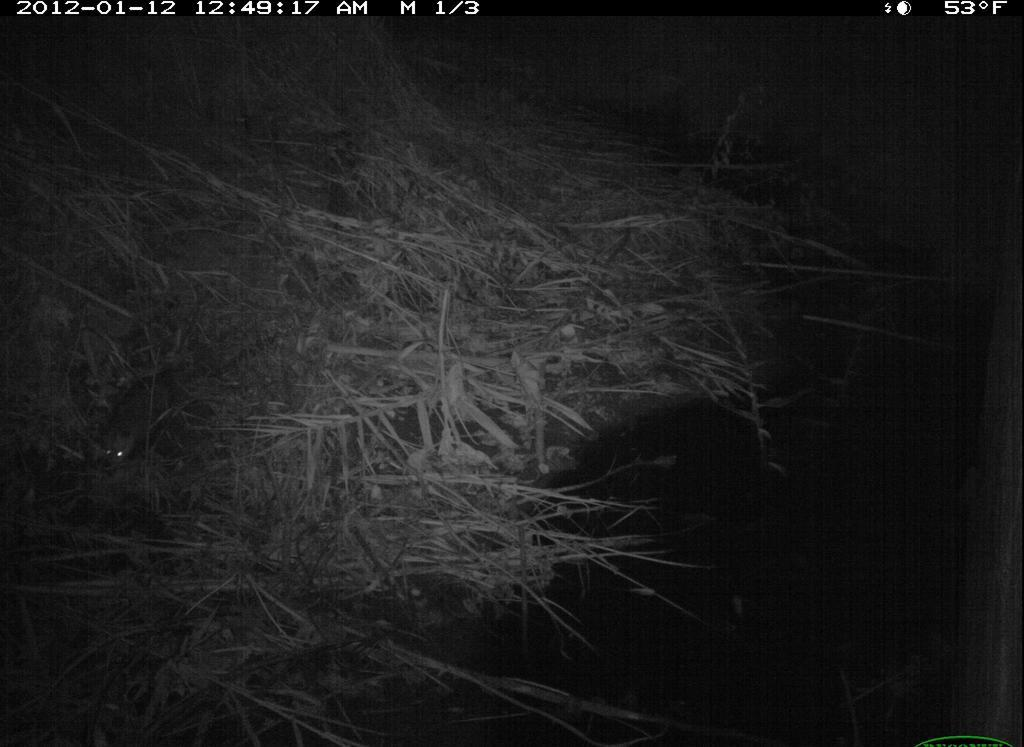opossum: (93, 335, 276, 474)
